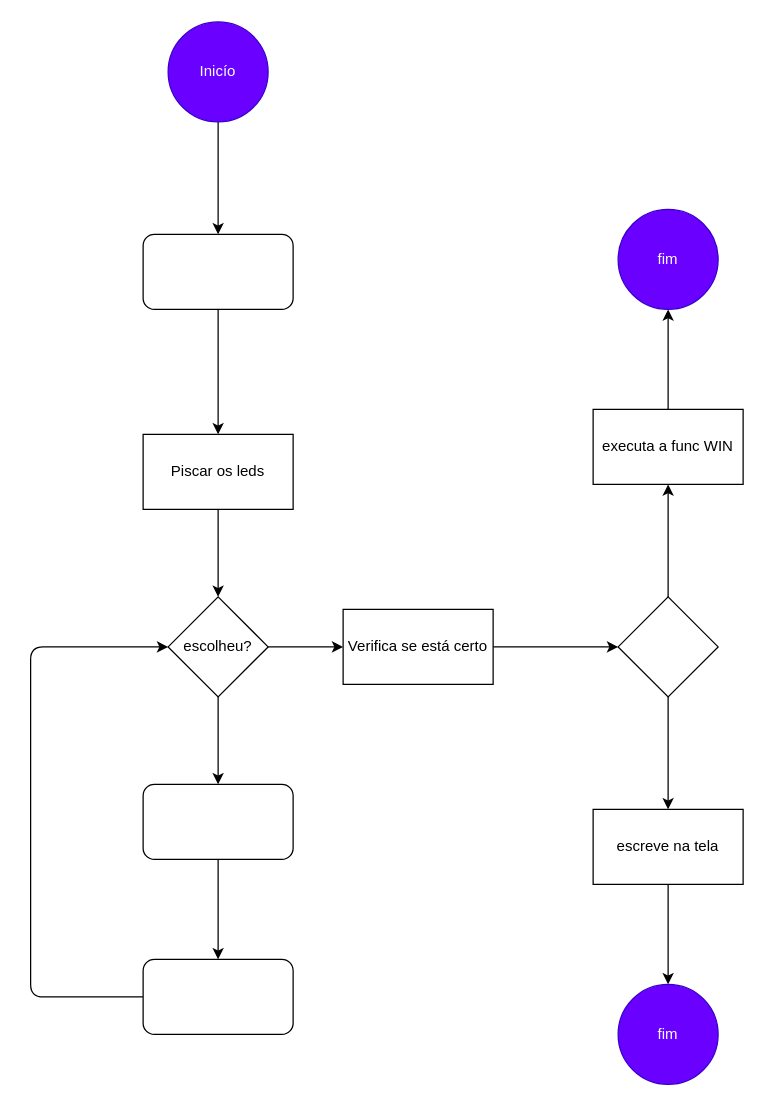
Some shapes in this 765 by 1106 pixel diagram are drawn without their labels. The centre of each missing label's shape, as x and y in pixels:
"armazena a cor" belongs at (217,996).
"esperar o retorno do botão" belongs at (217,821).
"gerar padrão de cor" belongs at (217,271).
"OK!?" belongs at (667,646).
